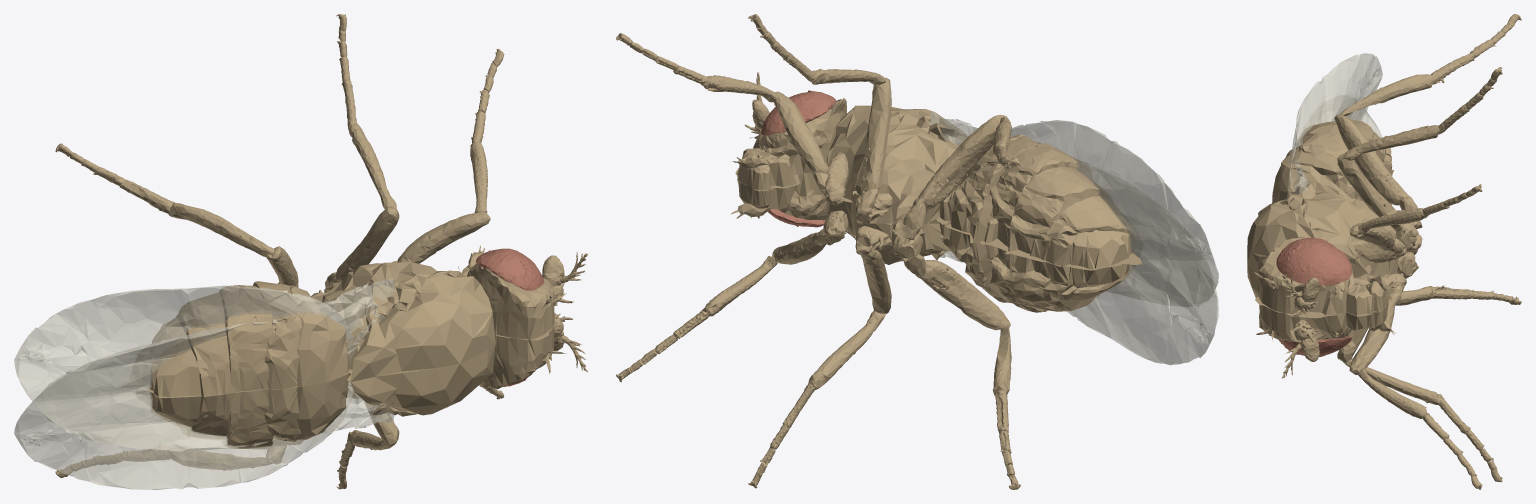
Rendered from fly.glb.
The picture shows the model from 3 angles, left to right: view 1: azimuth 30°, elevation 25°; view 2: azimuth 150°, elevation 25°; view 3: azimuth 270°, elevation 25°; orthographic projection. The views are drawn at different scales.
Visible parts, largest first — view 1: r_wing, l_wing, c_thorax, c_abdomen4, c_head, c_abdomen12, c_abdomen5, c_abdomen3, c_abdomen6, lf_trochanterfemur, l_eye, lm_trochanterfemur (+6 smaller); view 2: l_wing, r_wing, c_thorax, c_abdomen6, c_abdomen5, c_abdomen3, c_abdomen4, c_head, lh_trochanterfemur, rh_trochanterfemur, lm_trochanterfemur, c_rostrum (+13 smaller); view 3: c_thorax, c_head, r_wing, c_abdomen12, l_eye, lh_trochanterfemur, c_rostrum, lm_trochanterfemur, l_wing, lh_tibia, rf_trochanterfemur, lm_tibia (+21 smaller).
Boxes of the visible parts, x1,y1,x2,y2 form: r_wing: (14, 285, 394, 451); l_wing: (14, 279, 394, 489); c_thorax: (311, 262, 495, 416); c_abdomen4: (219, 285, 273, 448); c_head: (467, 263, 566, 388); c_abdomen12: (290, 285, 349, 439); c_abdomen5: (176, 292, 236, 439); c_abdomen3: (253, 281, 304, 446); c_abdomen6: (144, 317, 208, 428); lf_trochanterfemur: (392, 211, 490, 263); l_eye: (476, 248, 544, 290); lm_trochanterfemur: (325, 208, 399, 289); l_wing: (930, 112, 1218, 365); r_wing: (940, 120, 1218, 306); c_thorax: (826, 105, 967, 264); c_abdomen6: (1039, 196, 1142, 301); c_abdomen5: (1005, 167, 1108, 311); c_abdomen3: (945, 134, 1041, 303); c_abdomen4: (980, 143, 1089, 312); c_head: (750, 98, 846, 220); lh_trochanterfemur: (903, 114, 1010, 231); rh_trochanterfemur: (903, 254, 1010, 330); lm_trochanterfemur: (856, 77, 891, 214); c_rostrum: (731, 148, 799, 218); c_thorax: (1247, 182, 1400, 297); c_head: (1254, 237, 1354, 342); r_wing: (1289, 53, 1382, 194); c_abdomen12: (1272, 144, 1359, 203); l_eye: (1276, 237, 1352, 285); lh_trochanterfemur: (1334, 114, 1417, 210); c_rostrum: (1346, 273, 1395, 334); lm_trochanterfemur: (1337, 154, 1418, 237); l_wing: (1285, 95, 1382, 199); lh_tibia: (1339, 74, 1433, 115); rf_trochanterfemur: (1349, 285, 1402, 374); lm_tibia: (1343, 125, 1441, 160).
Bounding box in the file's own units: 3.67 × 3.06 × 1.84.
